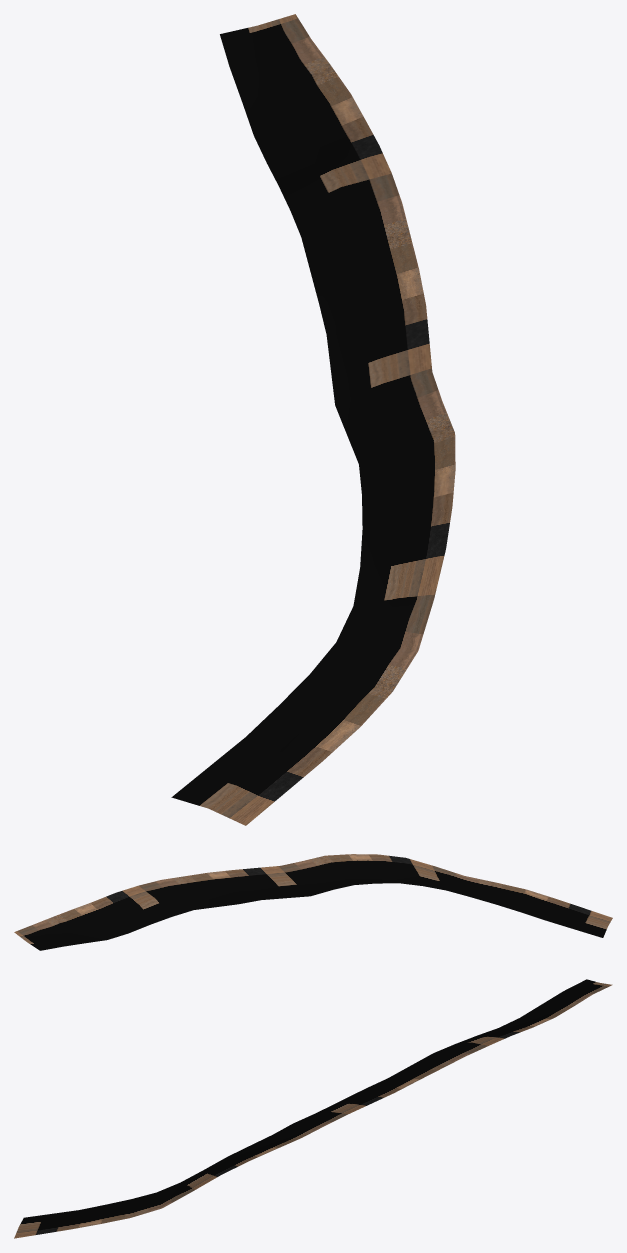
File: Tide_GenerateSurfaceDecal_2B15E76D_0_FlowDecal_SmallMesh_Mesh_x5_y6_86_0_ATLAS.fbx
The picture shows the model from 3 angles, top to bottom: view 1: azimuth 30°, elevation 25°; view 2: azimuth 150°, elevation 25°; view 3: azimuth 330°, elevation 25°; orthographic projection. The views are drawn at different scales.
Visible parts, largest first — view 1: Tide_GenerateSurfaceDecal_2B15E76D_0_FlowDecal_SmallMesh_Mes; view 2: Tide_GenerateSurfaceDecal_2B15E76D_0_FlowDecal_SmallMesh_Mes; view 3: Tide_GenerateSurfaceDecal_2B15E76D_0_FlowDecal_SmallMesh_Mes.
Part boxes in pixels (x1,y1,x2,y2): Tide_GenerateSurfaceDecal_2B15E76D_0_FlowDecal_SmallMesh_Mes: (171,14,455,825); Tide_GenerateSurfaceDecal_2B15E76D_0_FlowDecal_SmallMesh_Mes: (14,854,612,950); Tide_GenerateSurfaceDecal_2B15E76D_0_FlowDecal_SmallMesh_Mes: (14,979,612,1238).
Bounding box in the file's own units: 1221 × 1903 × 429.
